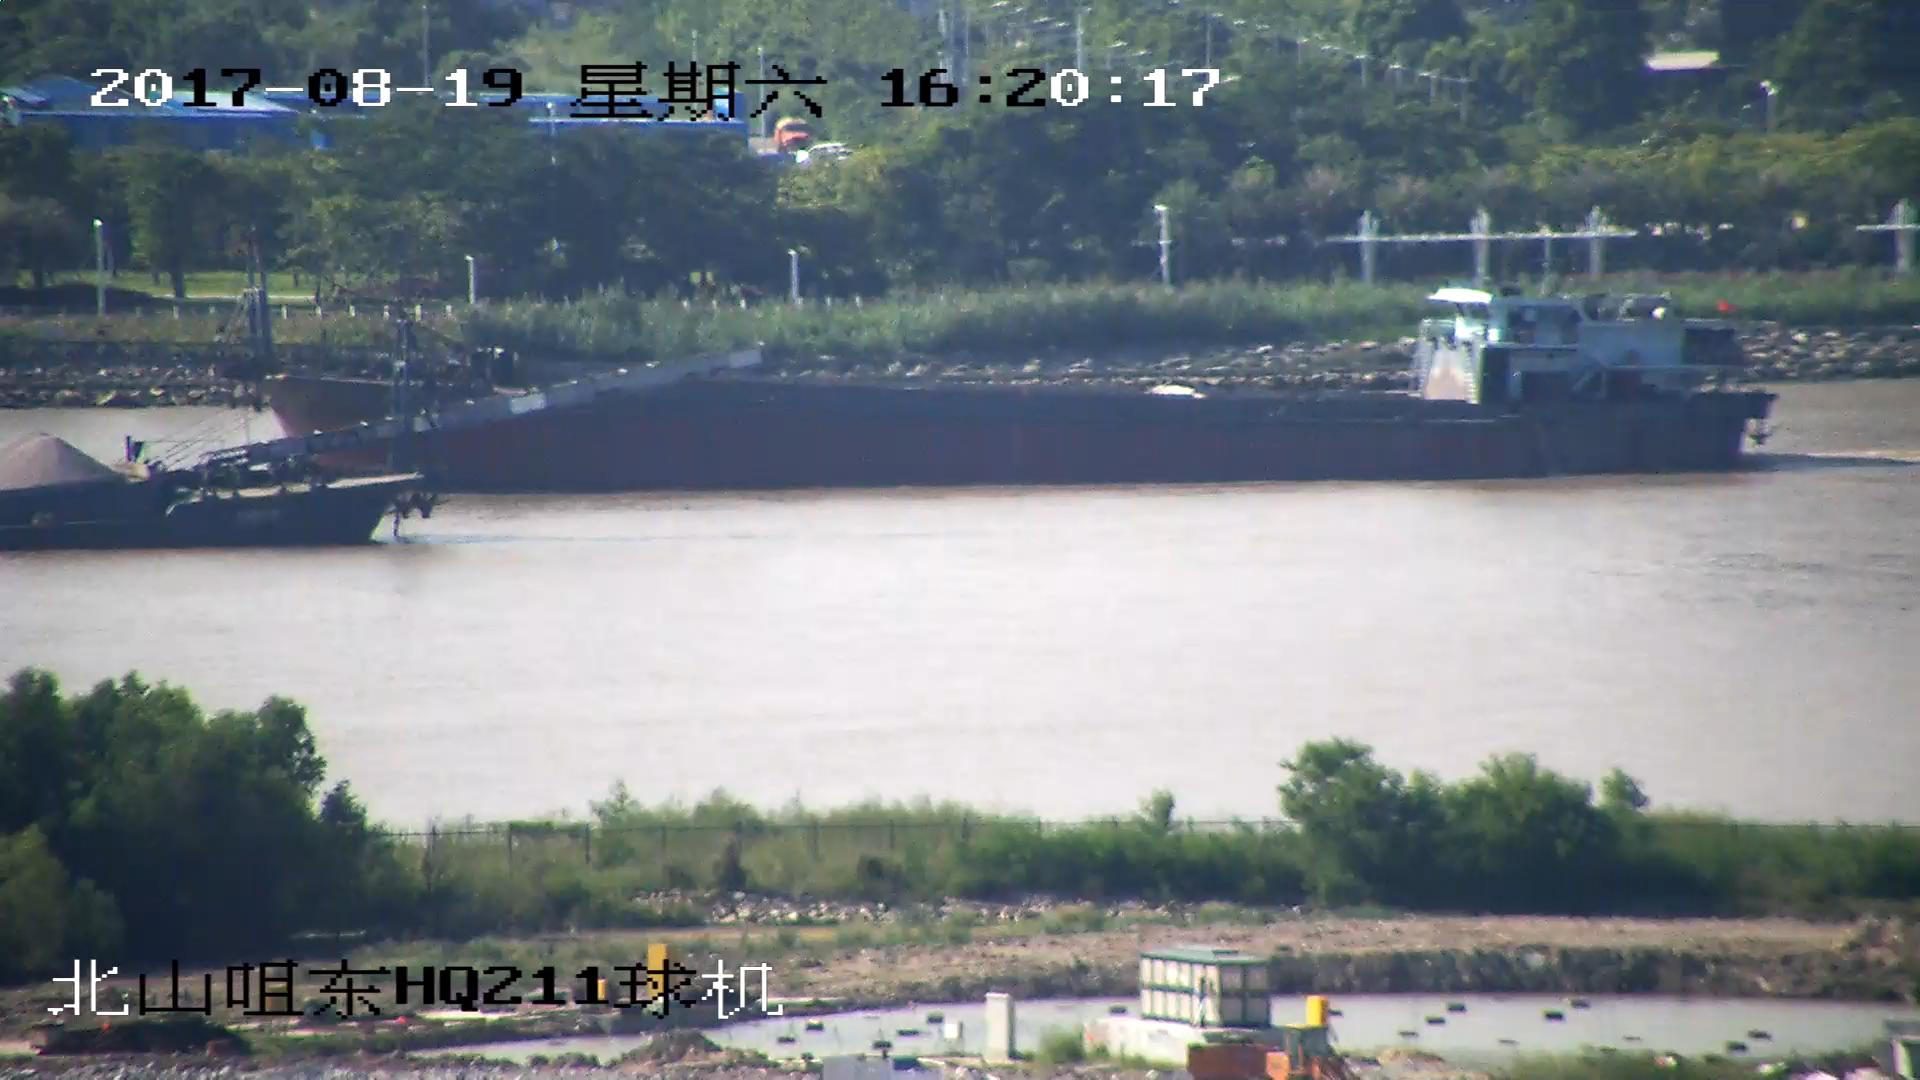bulk cargo carrier: (88, 235, 1779, 484)
ore carrier: (1, 323, 761, 549)
